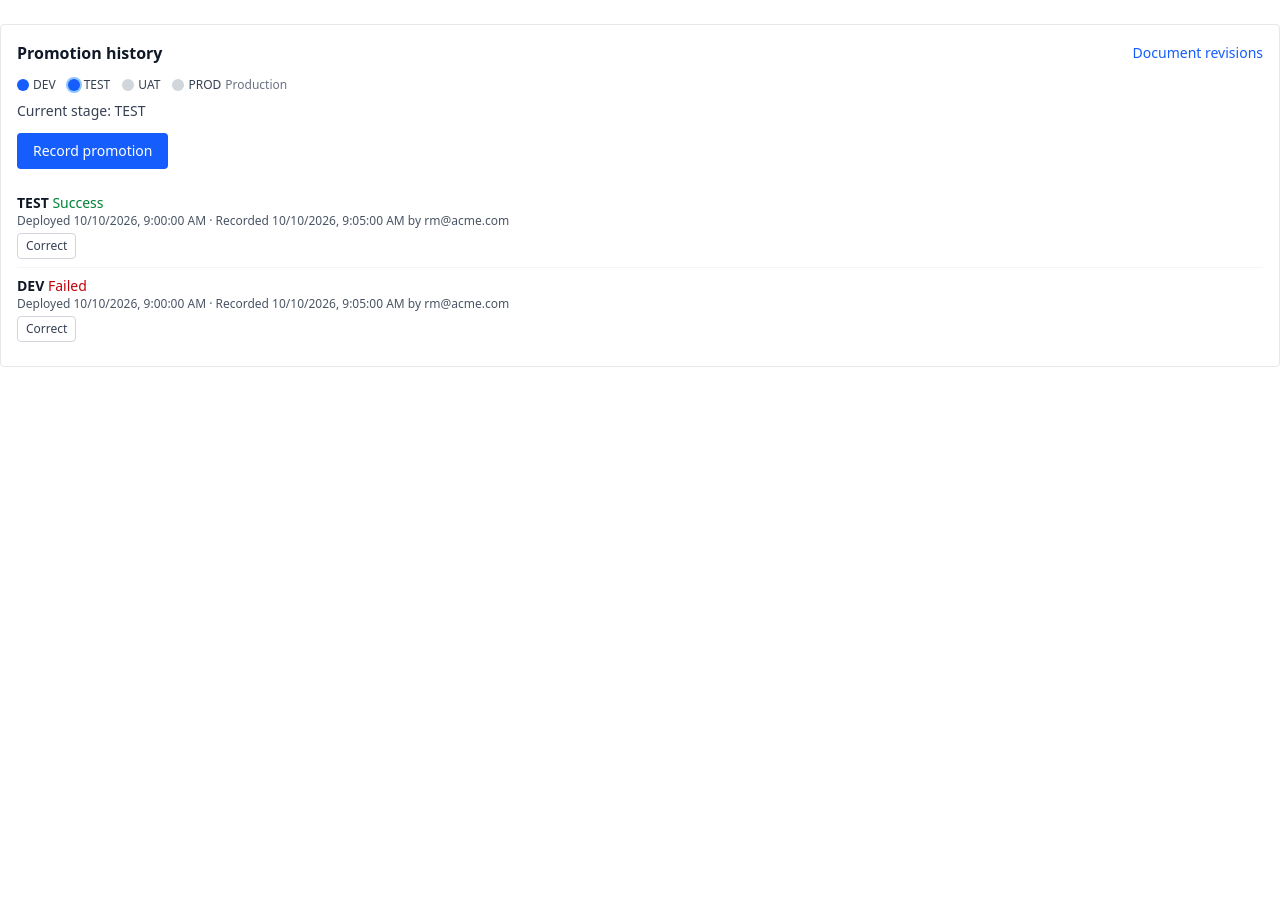
Test: PromotionSection › posts only stage and outcome when the optional fields are untouched, then shows the new entry
Click the button "Record promotion" at (93, 151), box [17,133,168,169]
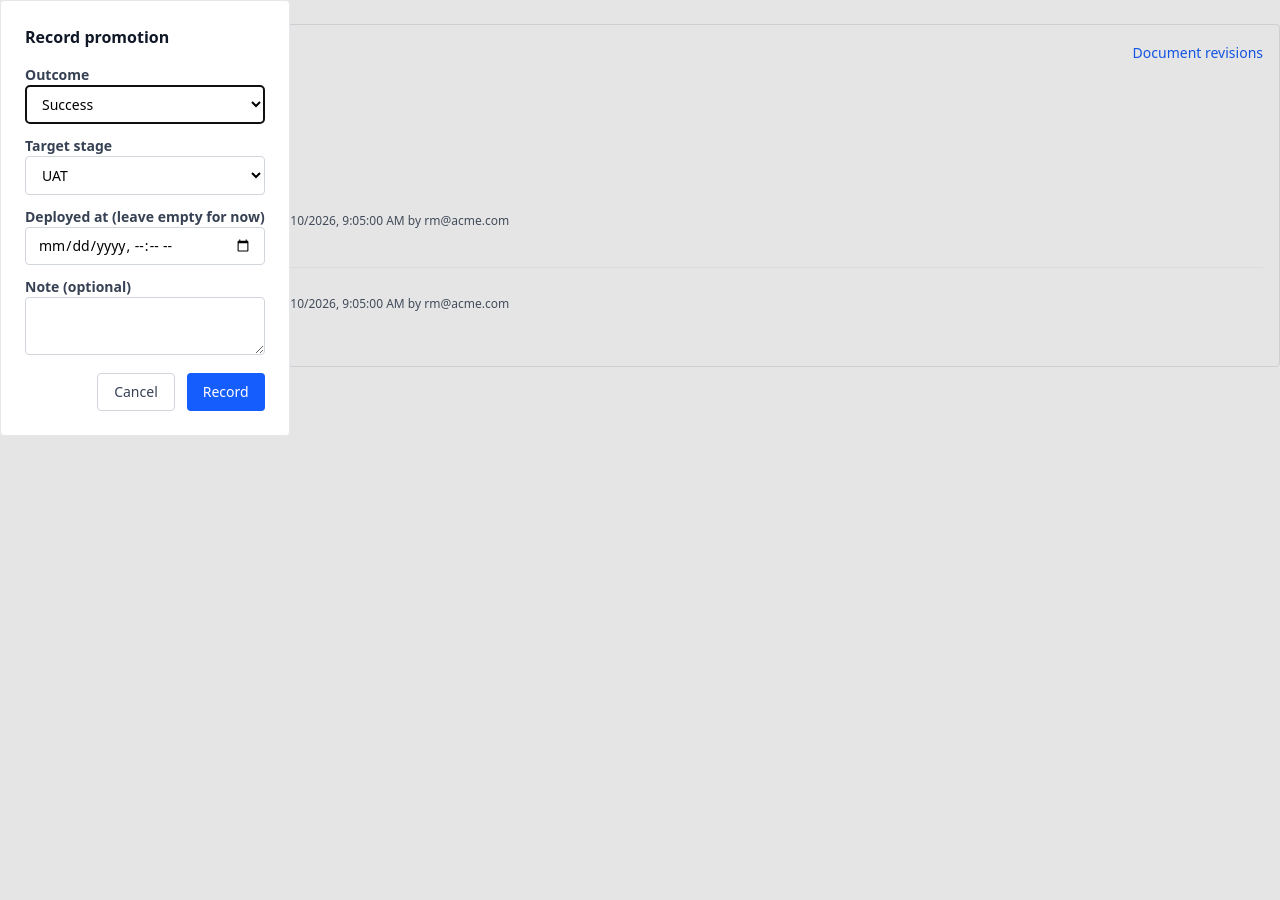
Expected: the button "Record" is shown
Click the button "Record" at (226, 392), box [187,373,265,411]
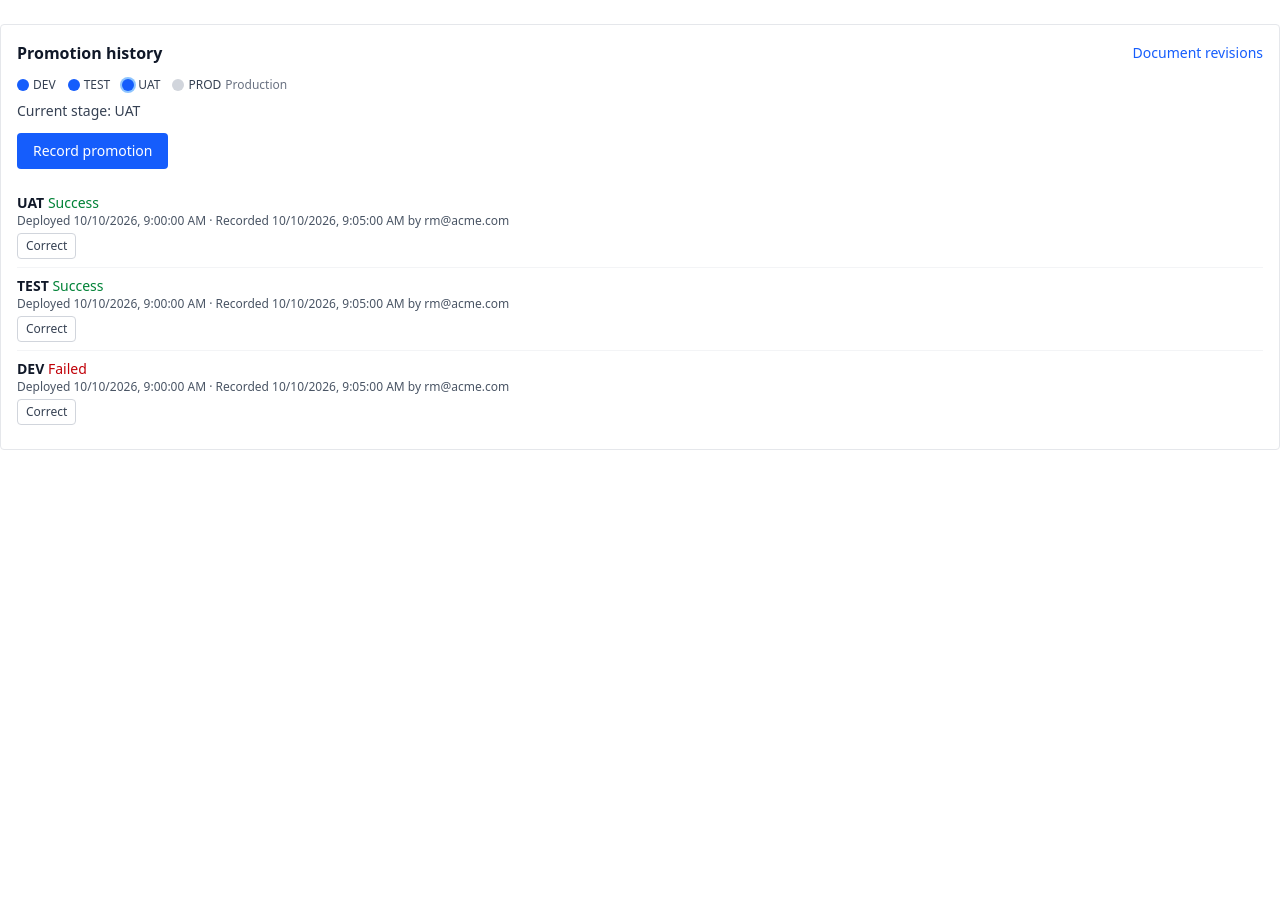
Expected: the text "Current stage: UAT" is shown, [17,101,140,120]
